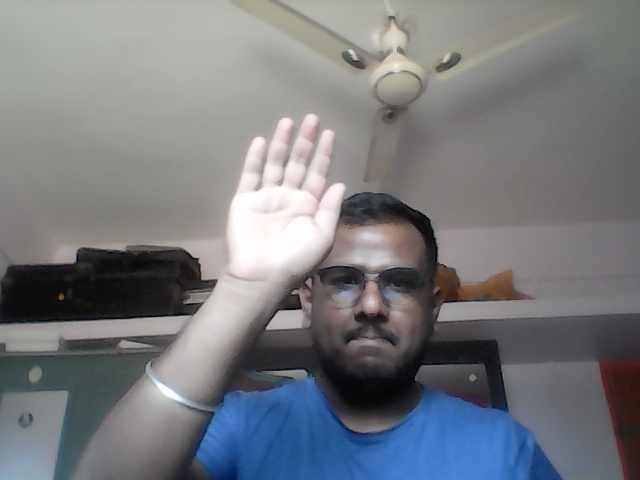Hello: (222, 112, 351, 288)
